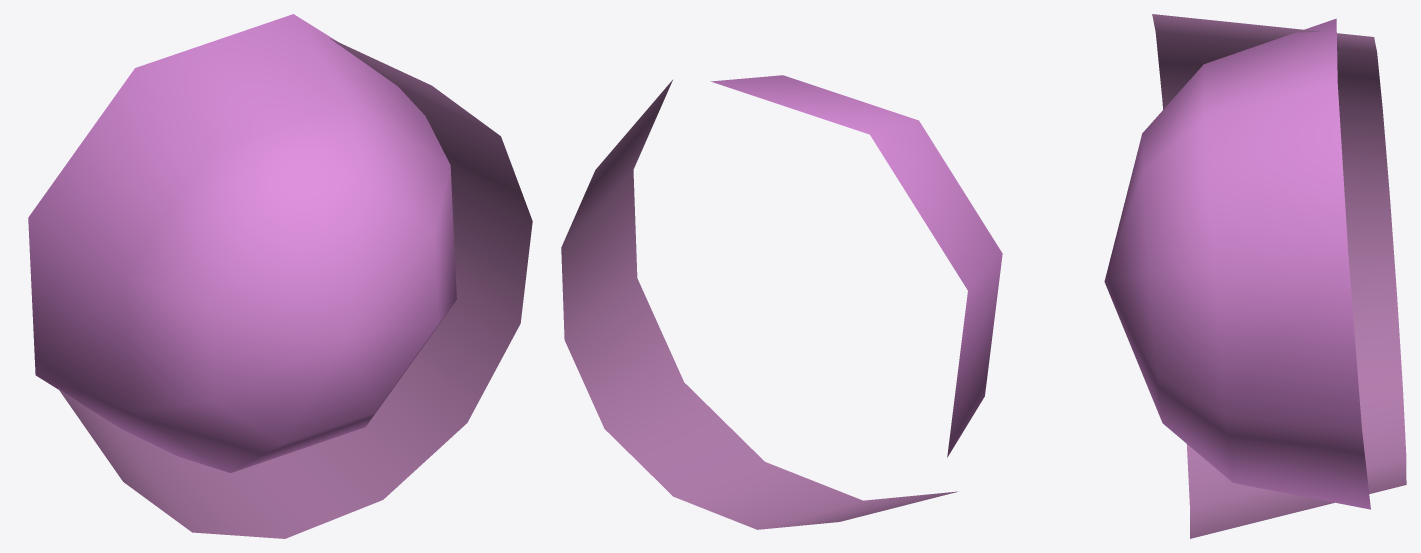
File: DJStageLightPink.glb
The picture shows the model from 3 angles, left to right: view 1: azimuth 30°, elevation 25°; view 2: azimuth 150°, elevation 25°; view 3: azimuth 270°, elevation 25°; orthographic projection. The views are drawn at different scales.
Visible parts, largest first — view 1: DJStageLightPink; view 2: DJStageLightPink; view 3: DJStageLightPink.
Part boxes in pixels (x1,y1,x2,y2): DJStageLightPink: [28, 14, 532, 538]; DJStageLightPink: [561, 75, 1002, 529]; DJStageLightPink: [1104, 14, 1406, 538].
Size of the model in its own units: 0.1917 by 0.1926 by 0.1109.
